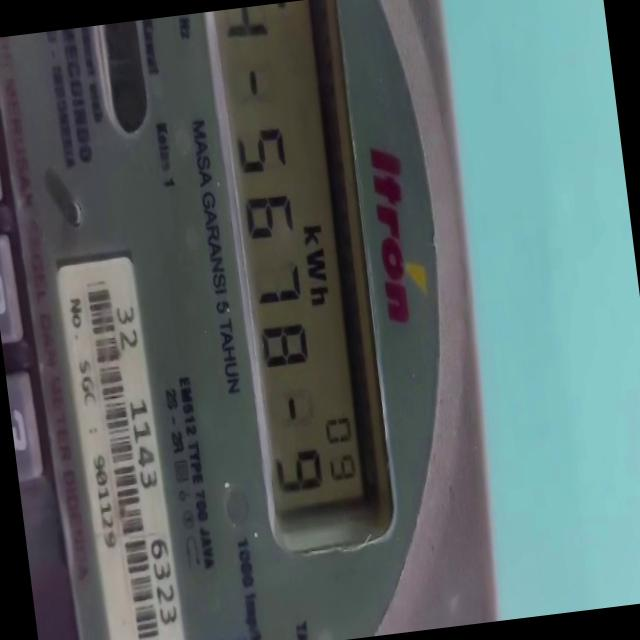LCD: (208, 0, 397, 547)
